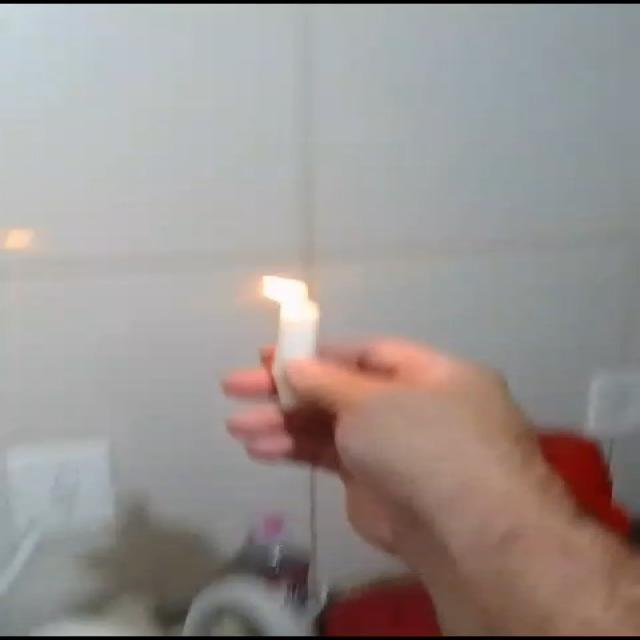fogo-ypXI: (255, 272, 314, 304)
